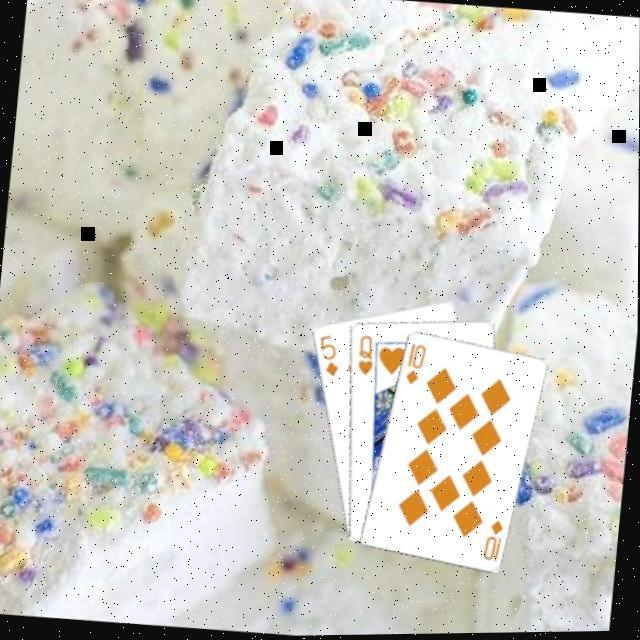10D: (479, 515, 506, 565), (401, 339, 428, 387)
5D: (312, 331, 342, 378)
QH: (352, 331, 378, 378)
